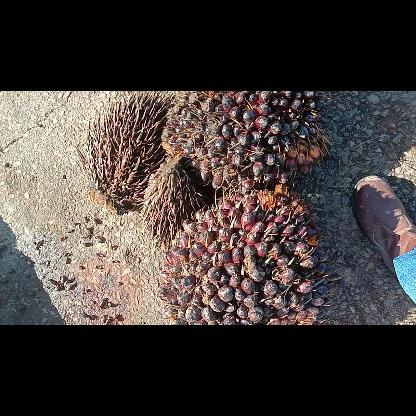Janjang kosong: (75, 90, 173, 214), (138, 159, 200, 251)
TBS mentah: (157, 184, 341, 324), (162, 90, 332, 188)
